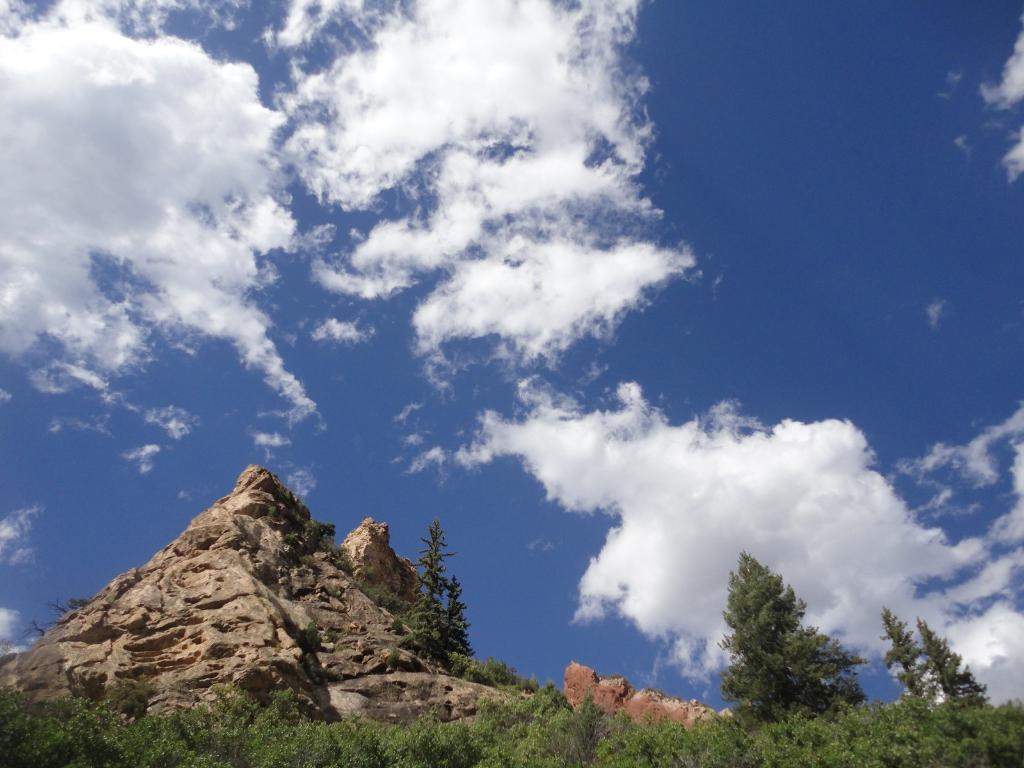Tree: (714, 545, 855, 732), (919, 613, 998, 713), (880, 609, 950, 712), (401, 515, 450, 654), (450, 583, 474, 656)
